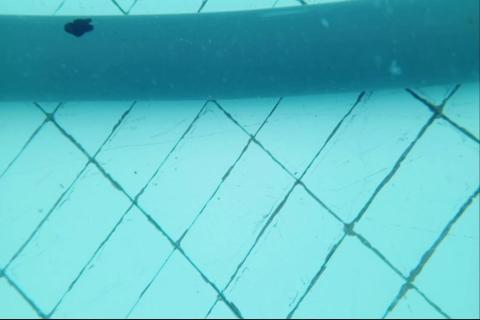kebocoran: (64, 16, 95, 37)
